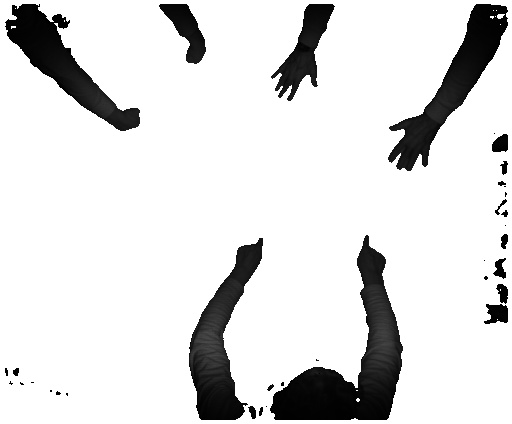fist: (114, 107, 143, 135), (185, 41, 207, 63)
hand: (384, 117, 439, 175), (264, 54, 319, 103), (352, 232, 391, 280), (234, 232, 263, 280)
